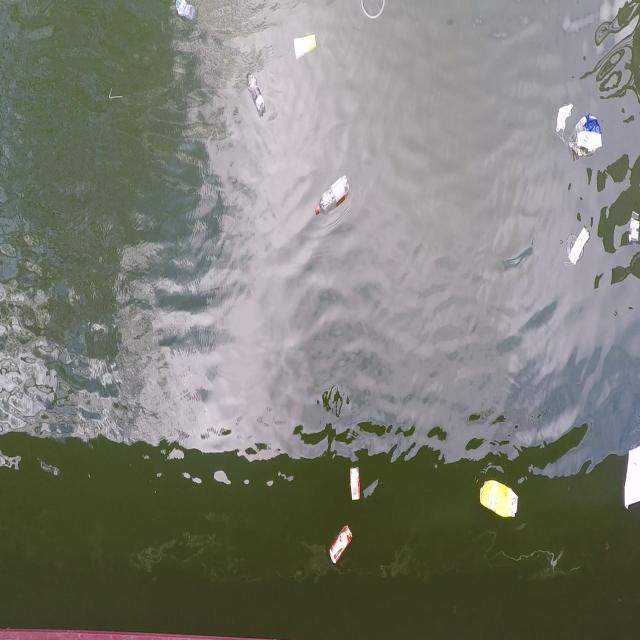Autre plastique: (620, 444, 640, 513)
Bouteille plastique: (313, 173, 351, 215), (243, 65, 268, 116)
Non plastique: (327, 521, 357, 572), (565, 223, 592, 275), (345, 459, 367, 507), (290, 28, 321, 62)
Sac plastique: (551, 98, 607, 163)
